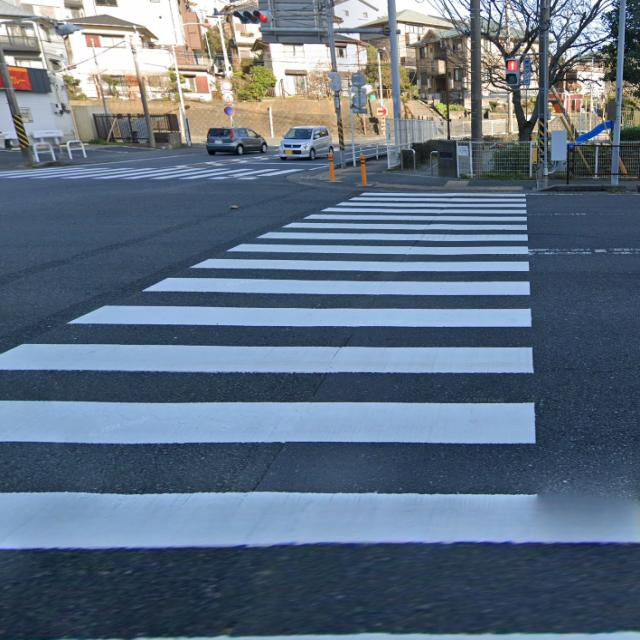traffic-light: (502, 59, 523, 86)
